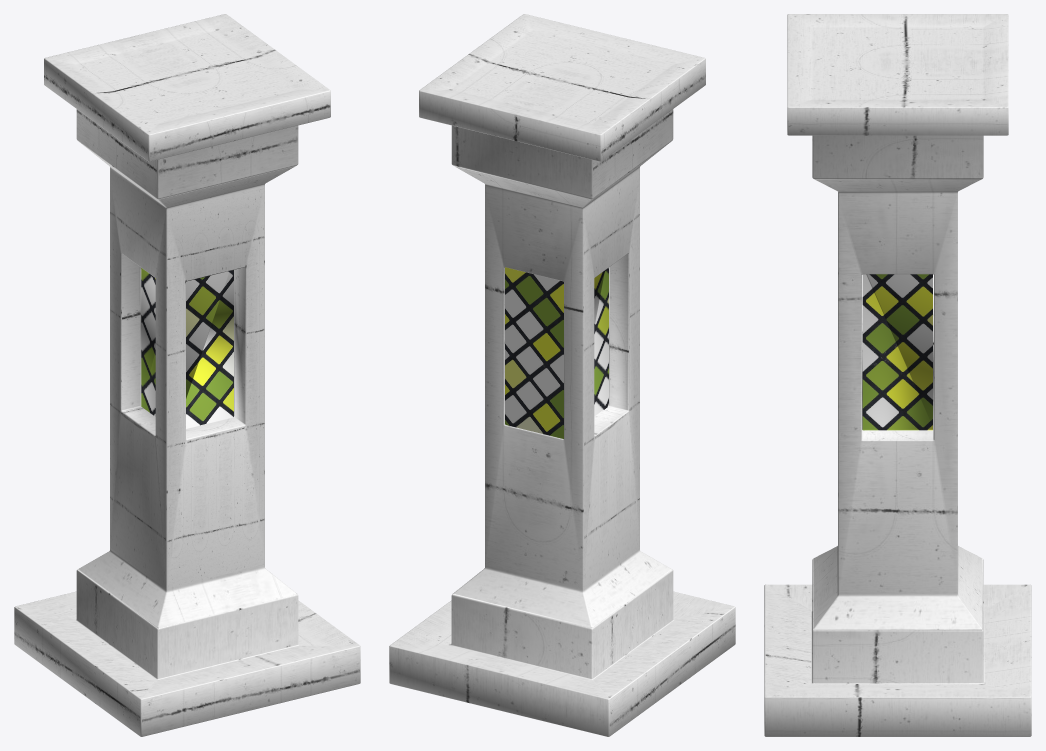
The model's file is Column.fbx.
3 renders of one model, left to right at view 1: azimuth 30°, elevation 25°; view 2: azimuth 150°, elevation 25°; view 3: azimuth 270°, elevation 25°, orthographic. The views are drawn at different scales.
Visible parts, largest first — view 1: Cube; view 2: Cube; view 3: Cube.
Boxes of the visible parts, x1,y1,x2,y2 form: Cube: (14,14,360,736); Cube: (389,14,735,736); Cube: (764,14,1031,736).
Bounding box in the file's own units: 114 × 293 × 114.
